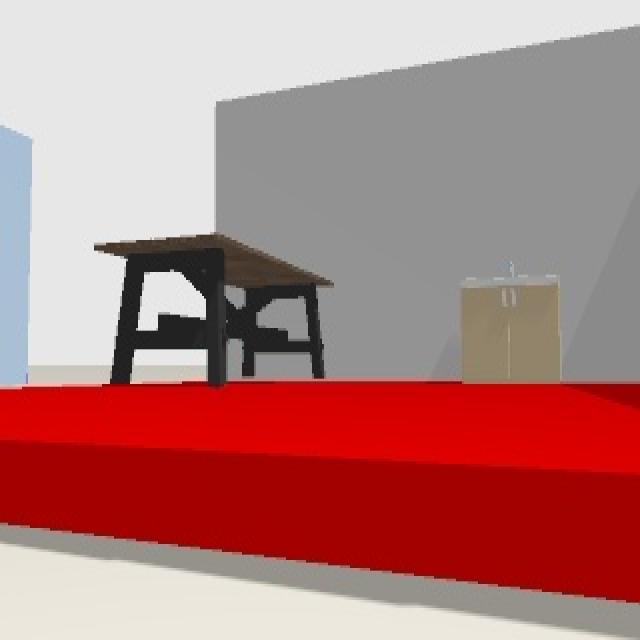dining: (93, 234, 333, 382)
